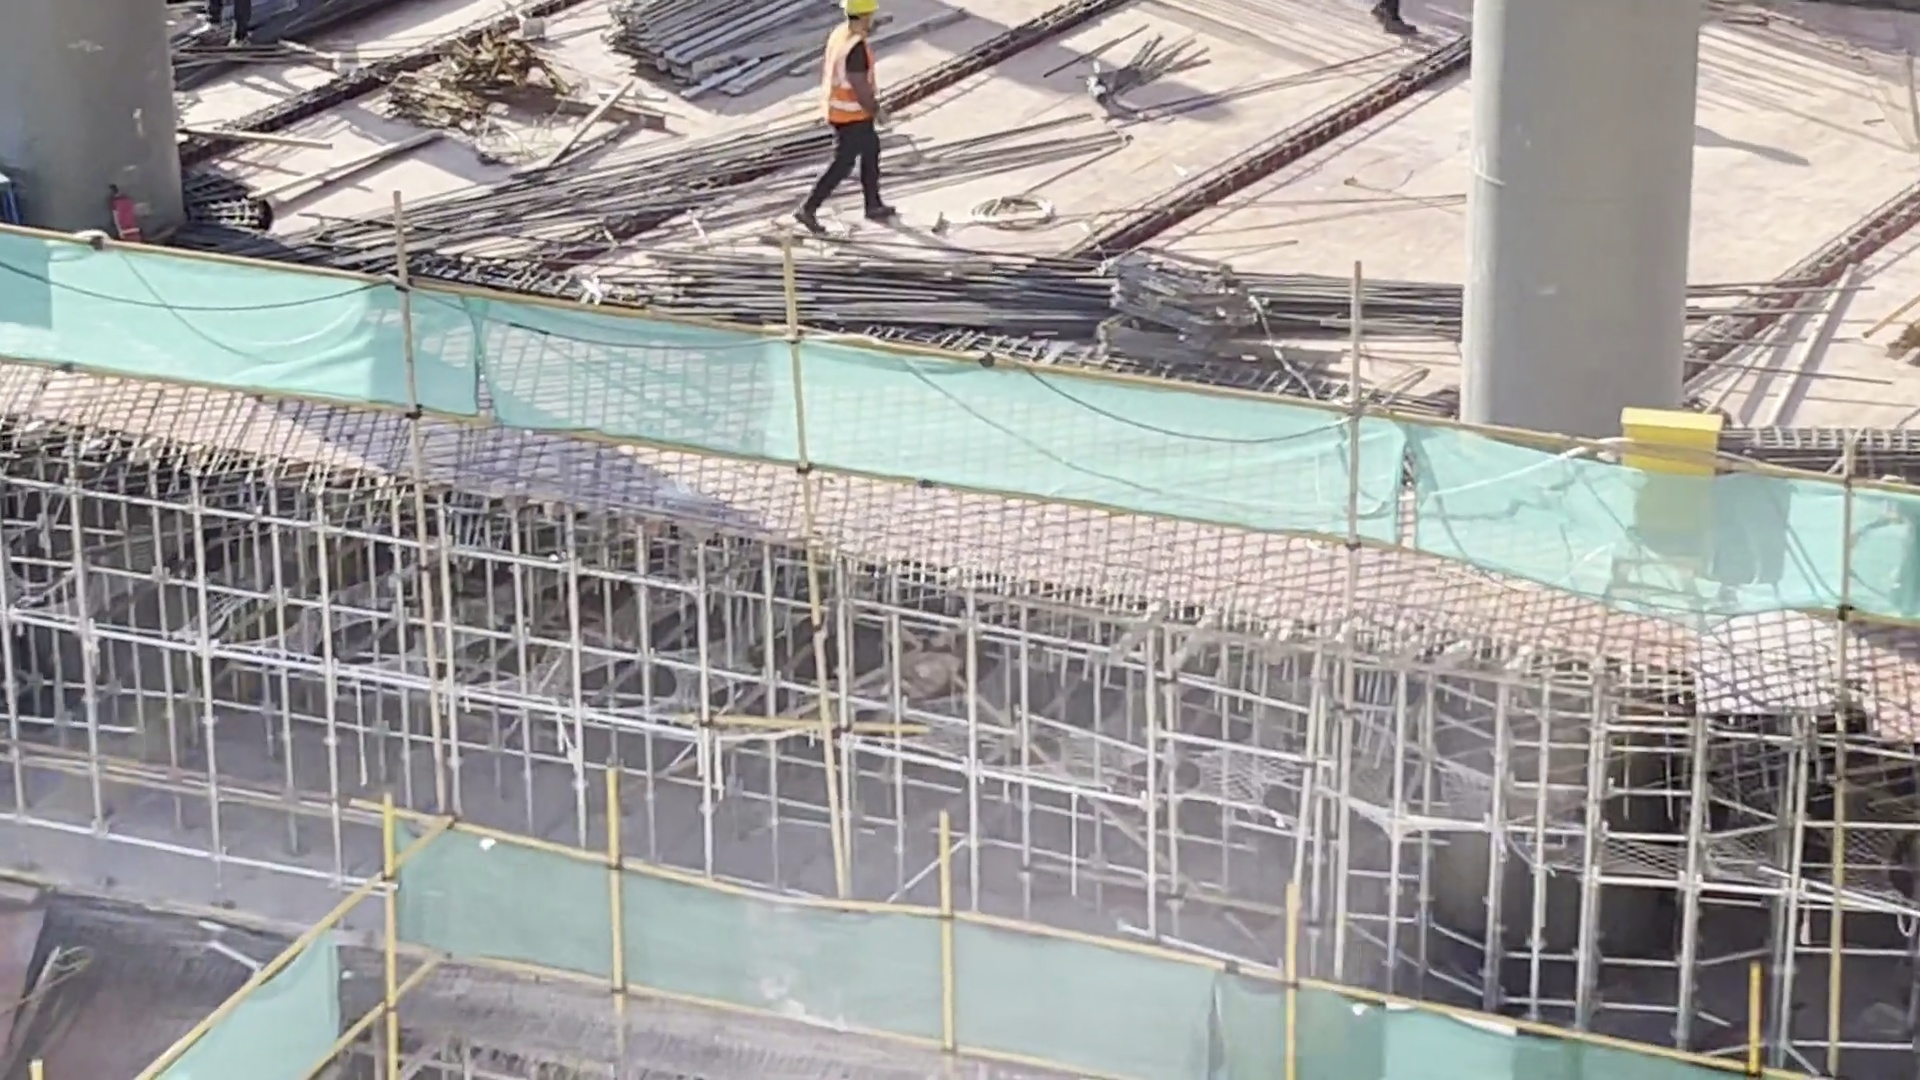ebox: (1600, 395, 1723, 560)
person: (786, 1, 906, 226)
vest: (809, 24, 882, 126)
